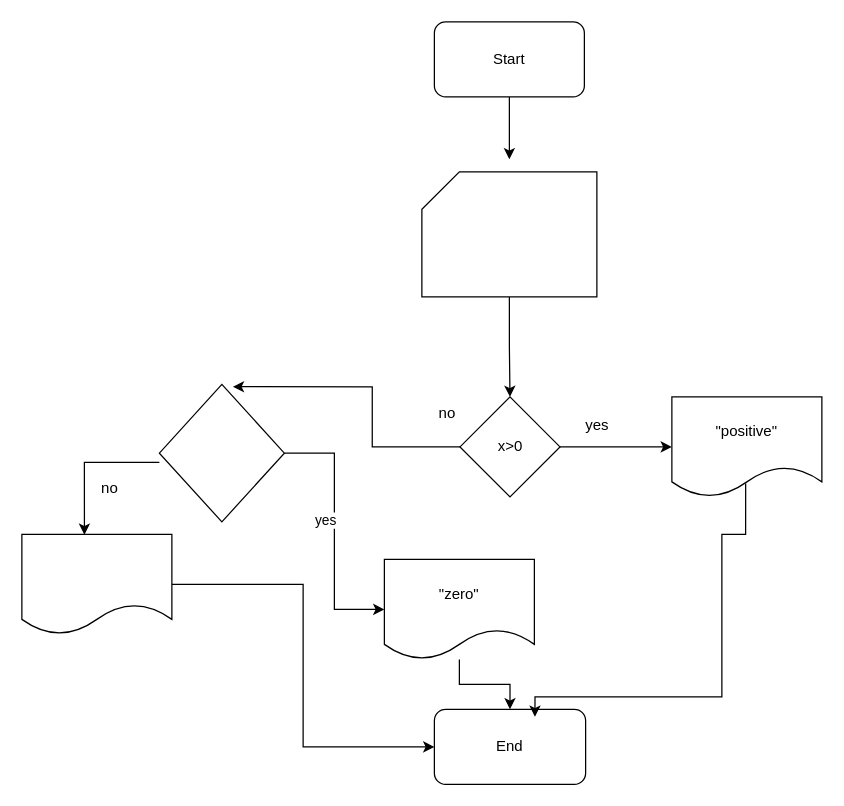
The diagram is 844 pixels wide and 806 high, and some of its shapes have lost their labels. The box of each missing label's shape, as (x1, y1, x2, y2) in pixels:
"negative": (21, 533, 172, 634)
x(float) "whats is x?": (421, 171, 597, 297)
x==0: (158, 383, 284, 522)
